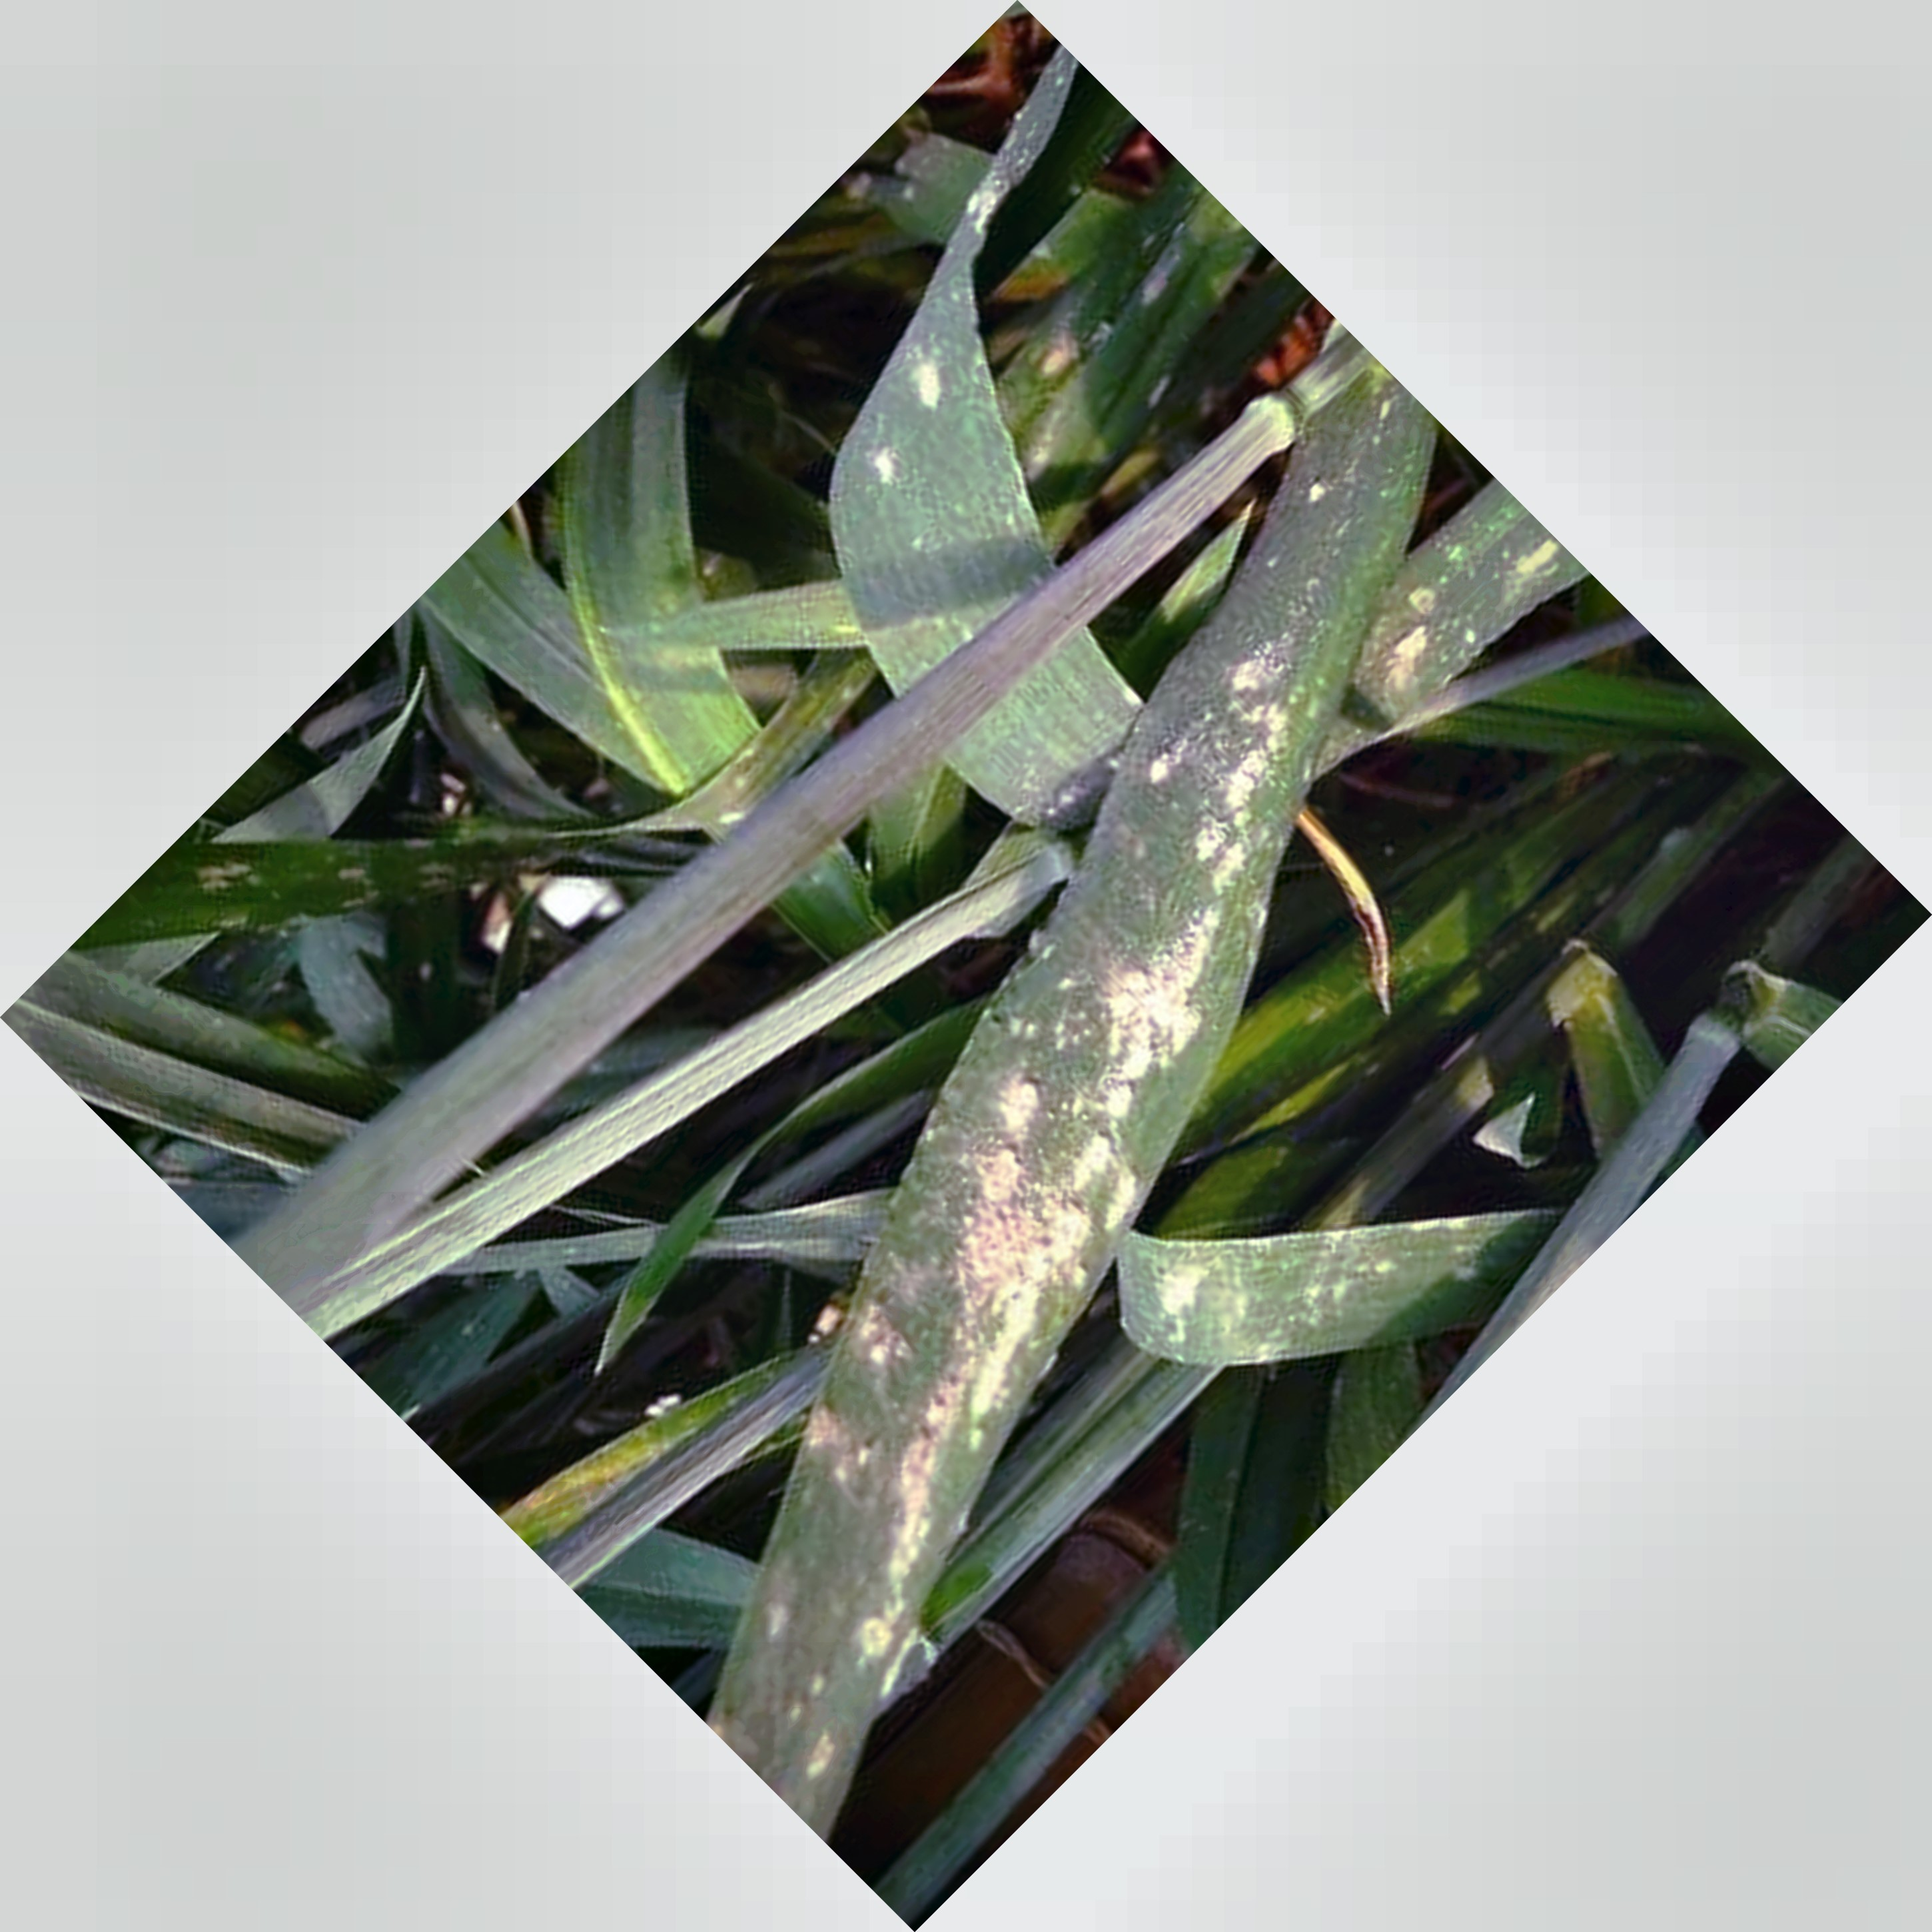Powdery Mildew: (803, 612, 1329, 1674)
